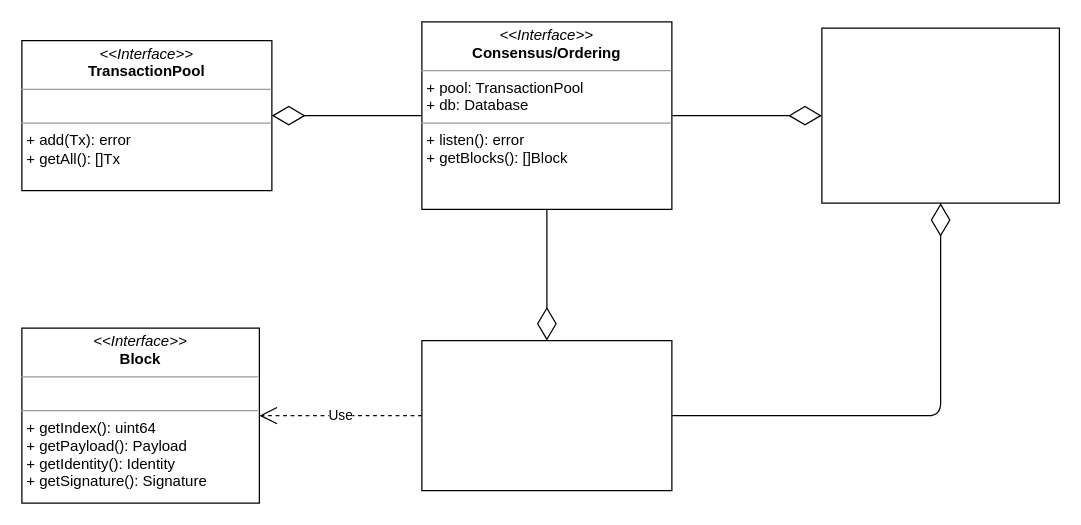
The diagram is 1081 pixels wide and 525 high, and some of its shapes have lost their labels. Here are the shapes that lost their labels. From the top down, the centre of each, then its label:
At [940,115]: "<<Interface>> Database + field1: Type + field2: Type + getRoot(): []byte".
At [546,415]: "<<Interface>> Validation + validate(Block): error".
